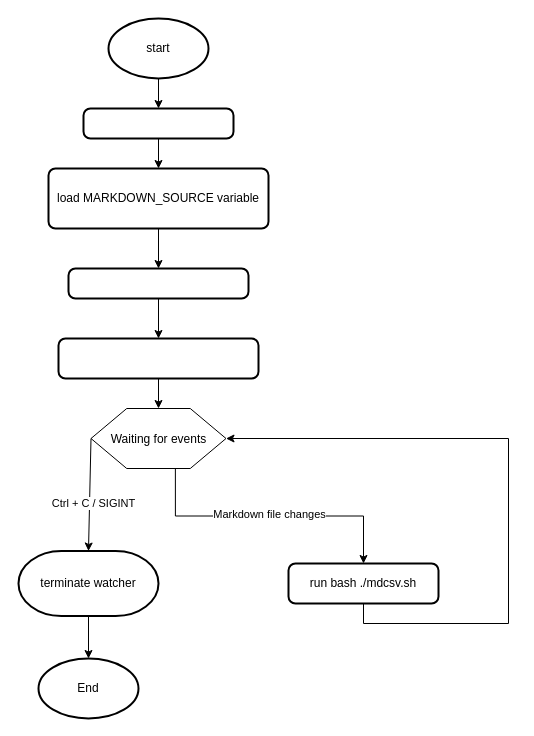
This 534x736 diagram has some shape labels left out. Here are the shapes that lost their labels. From the top down, the box of each, then its label:
(82, 107, 234, 139): source .env.banana
(67, 267, 249, 299): start chokidar file watcher
(57, 337, 259, 379): watch * .md files in MARKDOWN_SOURCE
